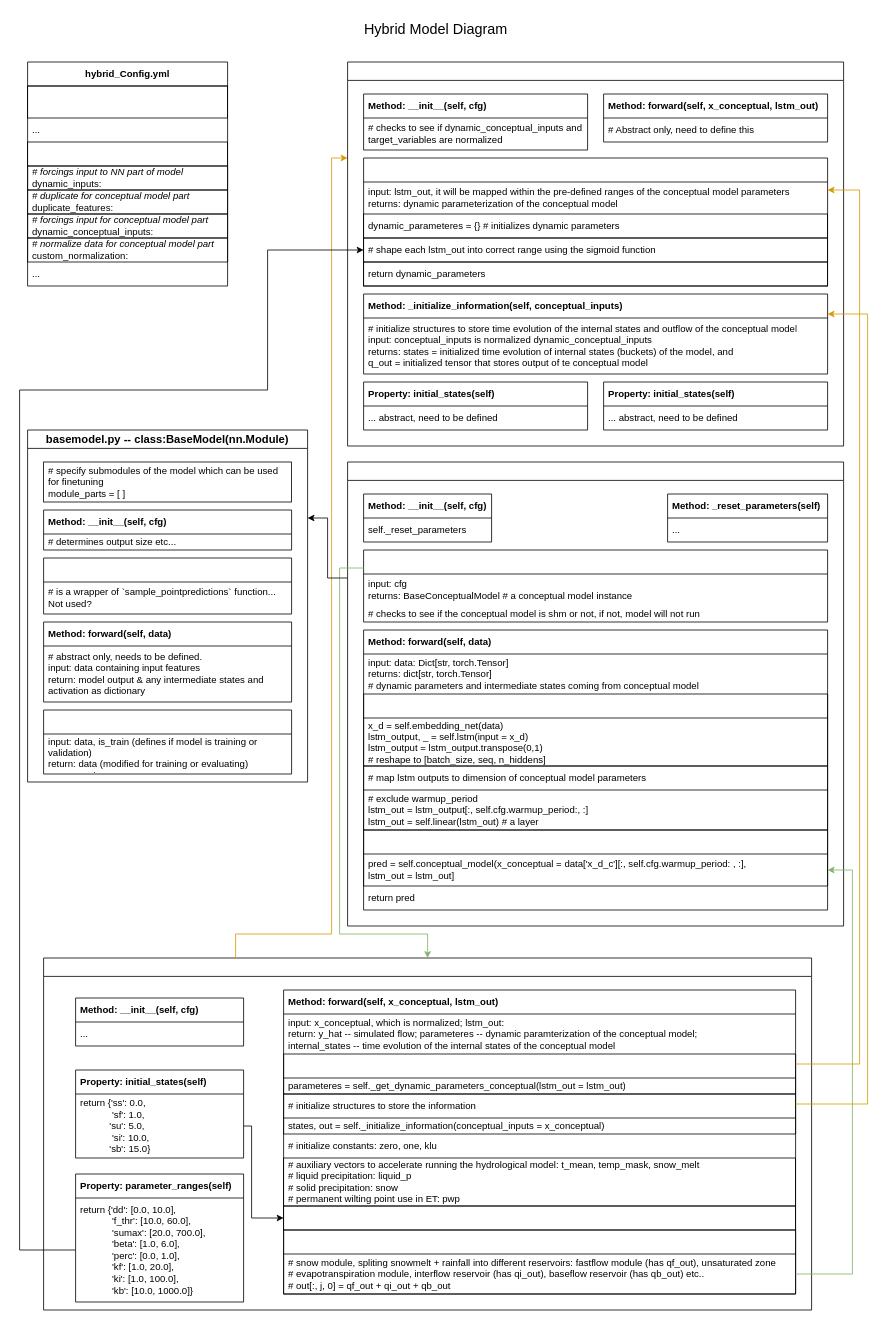
Image size: 888x1324. Some labels were removed from this diagram. Each missing label, with the box of its shape:
# get model parameteres: (283, 1053, 796, 1094)
# get runoff prediction from conceptual model: (363, 829, 828, 886)
# initialize storages with properties pre-defined by user: ss, sf, su, si, sb: (283, 1205, 796, 1230)
# run hydrological model for each time step j: (283, 1229, 796, 1294)
# run LSTM using dynamic forcing data: (363, 693, 828, 766)
basseconceptualmodel.py -- class:BaseConceptualModel(nn.Module): (347, 61, 844, 446)
hybridmodel.py -- class:Hybridmodel(BaseModel): (347, 461, 844, 926)
Method: _get_conceptual_model(cfg): (363, 549, 828, 622)
Method: _get_dynamic_parameters_conceptual(self, lstm_out): (363, 157, 828, 286)
Method: pre_model_hook(self, data): (43, 709, 292, 774)
Method: sample(self, data): (43, 557, 292, 614)
model: hybrid_model conceptual_model: shm: (27, 85, 228, 118)
shm.py -- class:SHM(BaseConceptualModel): (43, 957, 812, 1310)
warmup_period: 30 # if not specified, is 0, can be days or hours: (27, 141, 228, 166)
